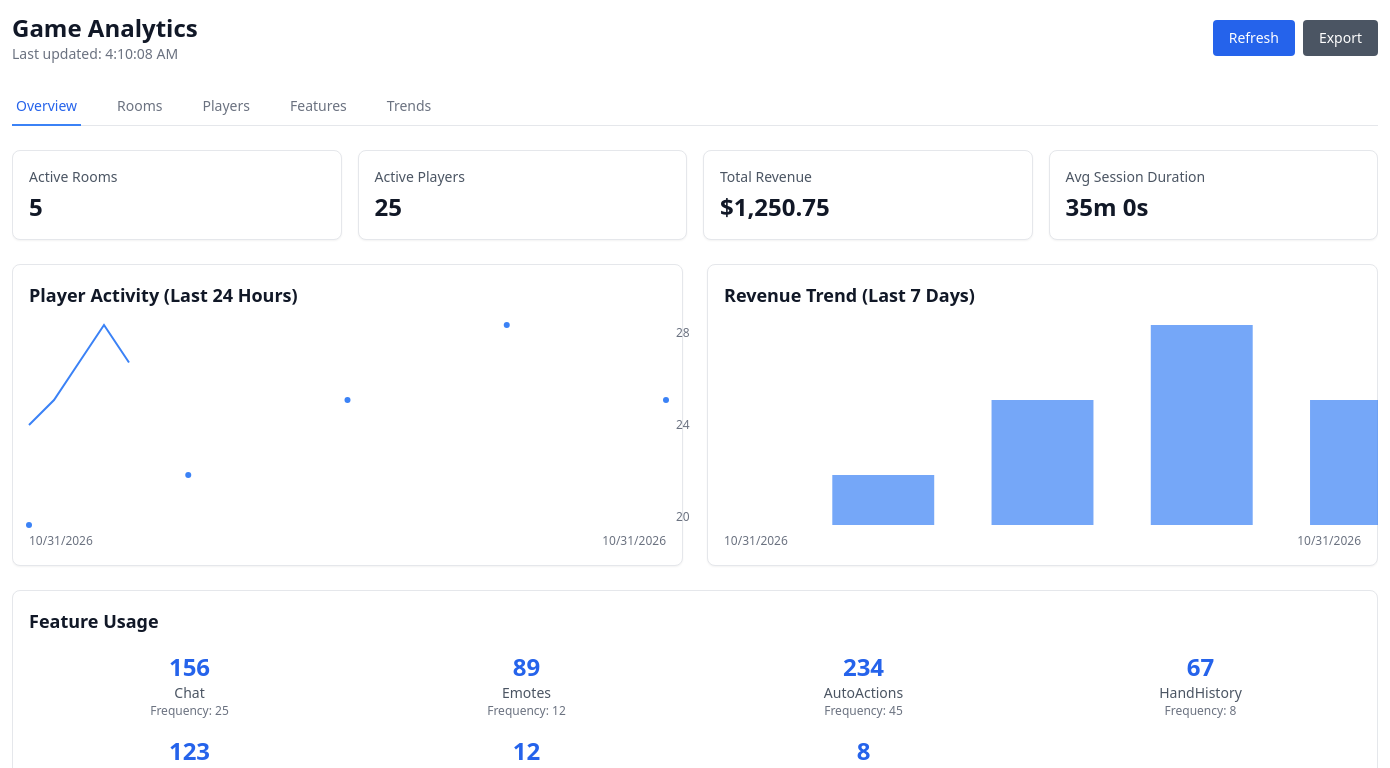
it: GameAnalyticsDashboard › Players Tab Content › should display player behavior metrics
What coordinates should you click on to do the following:
click the button "Players"
I would click on:
 (226, 107)
Its box is 198,88 -> 254,126.
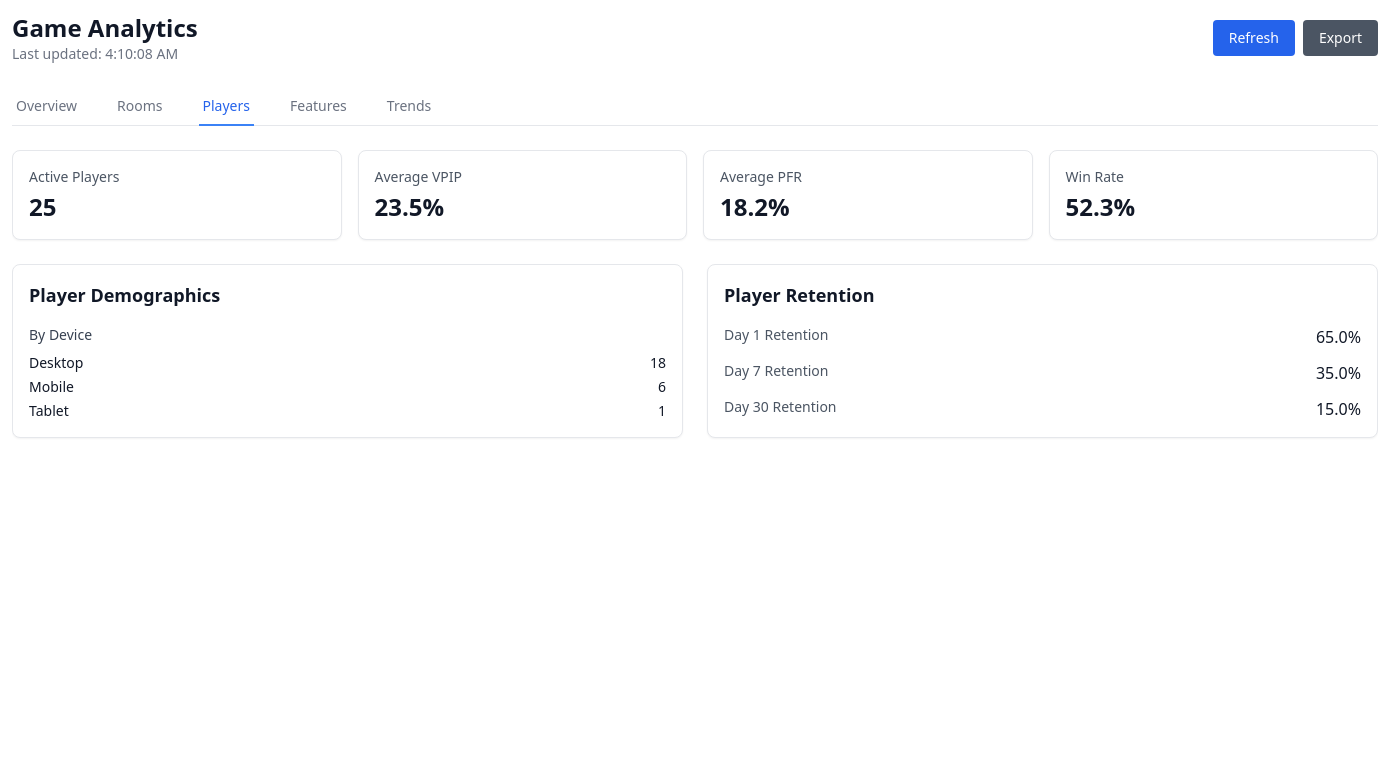
Now the text "Average VPIP" is shown, box 374,167 -> 462,186
Now the text "23.5%" is shown, box 374,191 -> 444,223
Now the text "Average PFR" is shown, box 720,167 -> 802,186
